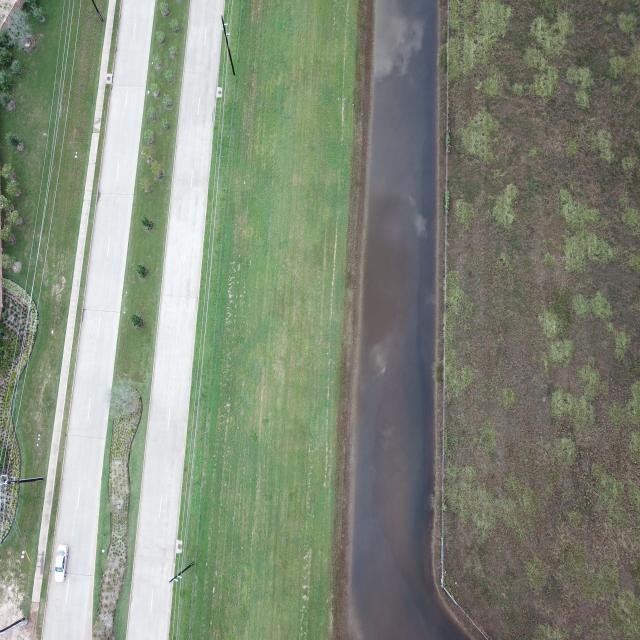fire: (350, 0, 467, 640)
